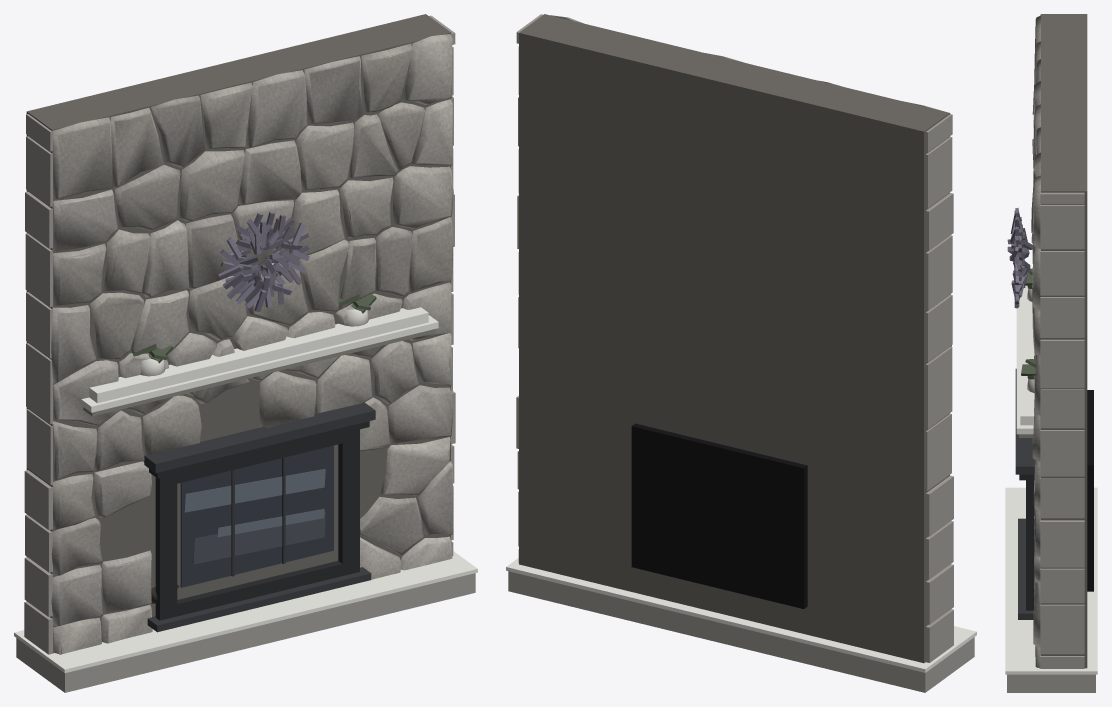
Rendered from fireplace5.glb.
3 renders of one model, left to right at view 1: azimuth 30°, elevation 25°; view 2: azimuth 150°, elevation 25°; view 3: azimuth 270°, elevation 25°, orthographic. The views are drawn at different scales.
Visible parts, largest first — view 1: root; view 2: root; view 3: root.
Part boxes in pixels (box(x1,y1,x2,y2)): root: box(14, 14, 477, 692); root: box(506, 14, 976, 692); root: box(1005, 14, 1097, 692).
Size of the model in its own units: 2.16 by 2.75 by 0.4602.
Materials: 22 (8 with a texture image).
